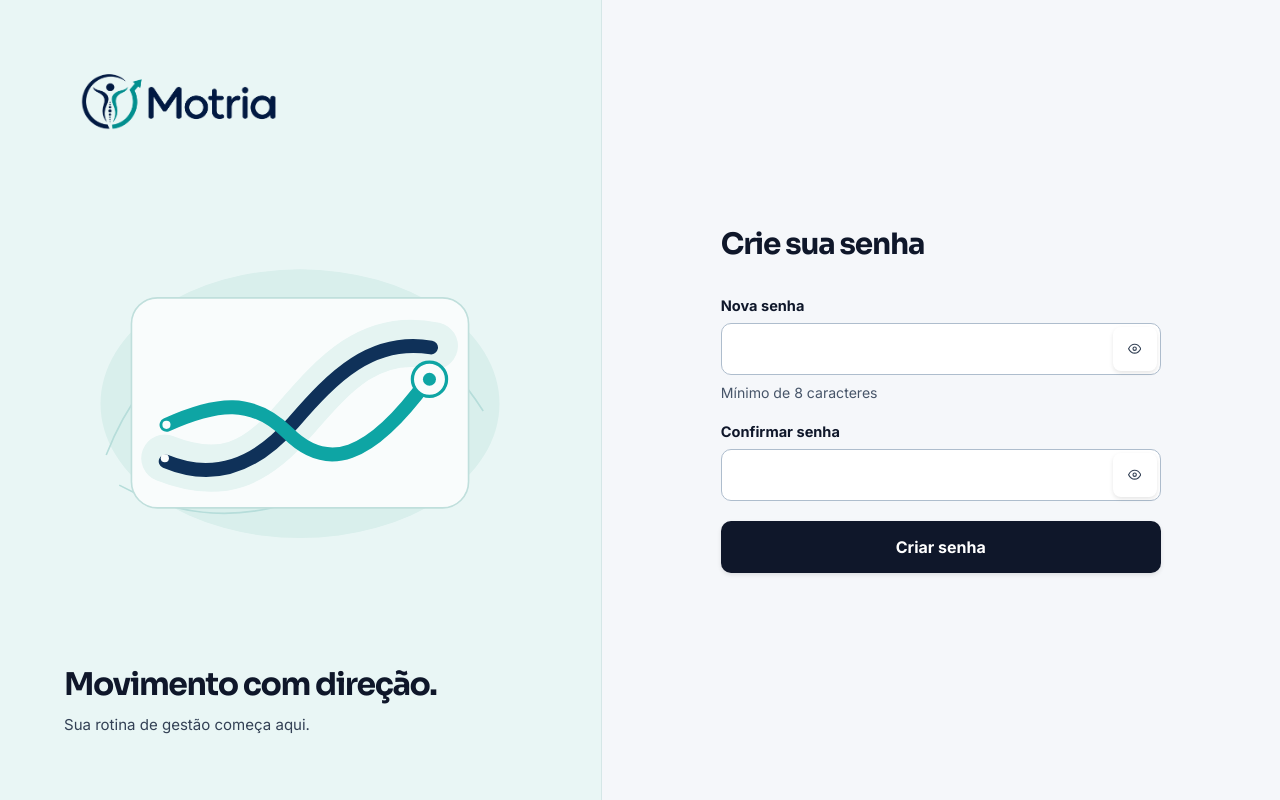
Test: consome o token do fragmento e o remove imediatamente da URL
Expected: the heading "Crie sua senha" is shown, [721, 225, 924, 263]
Expected: the text "Mínimo de 8 caracteres" is shown, [721, 384, 878, 401]
Type "senha de primeiro acesso" into the password field labelled "Nova senha" at (941, 349), box [721, 323, 1161, 375]
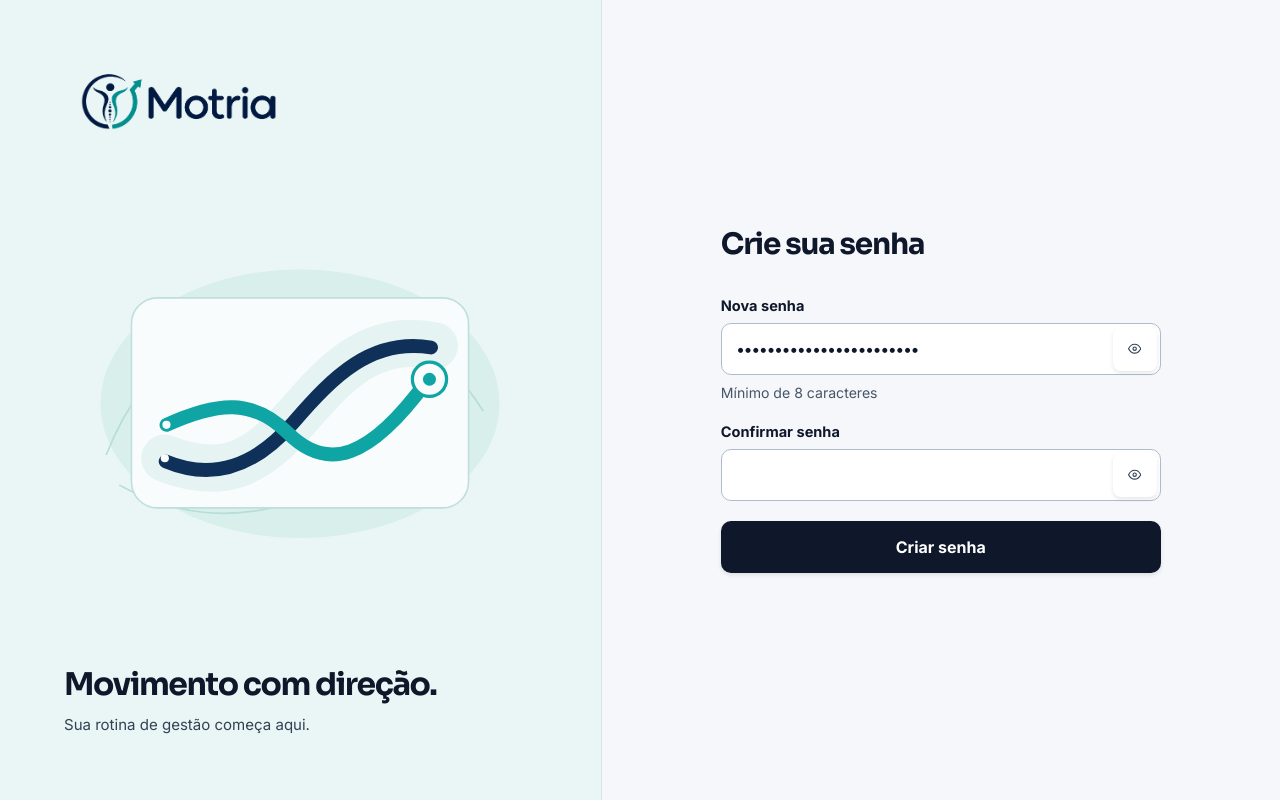
Type "senha de primeiro acesso" into the password field labelled "Confirmar senha" at (941, 475), box [721, 449, 1161, 501]
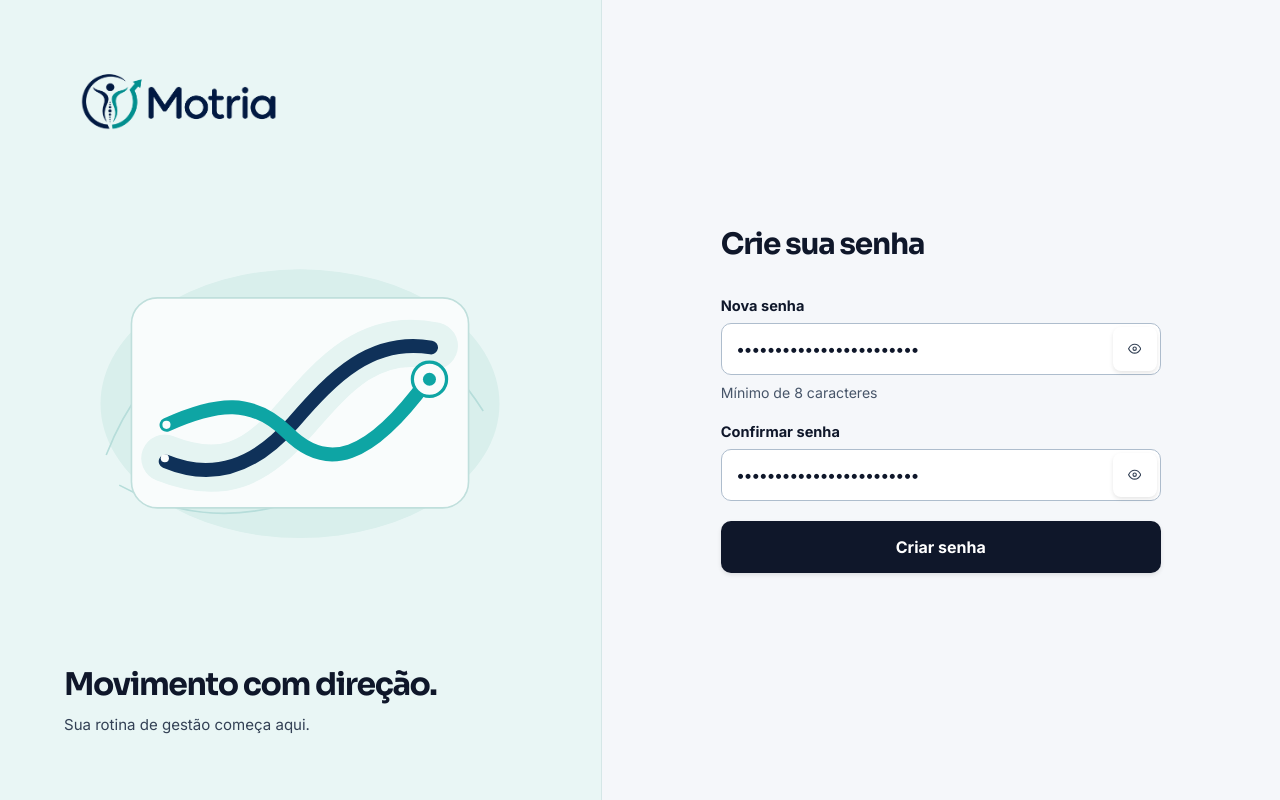
Click the button "Criar senha" at (941, 547), box [721, 521, 1161, 573]
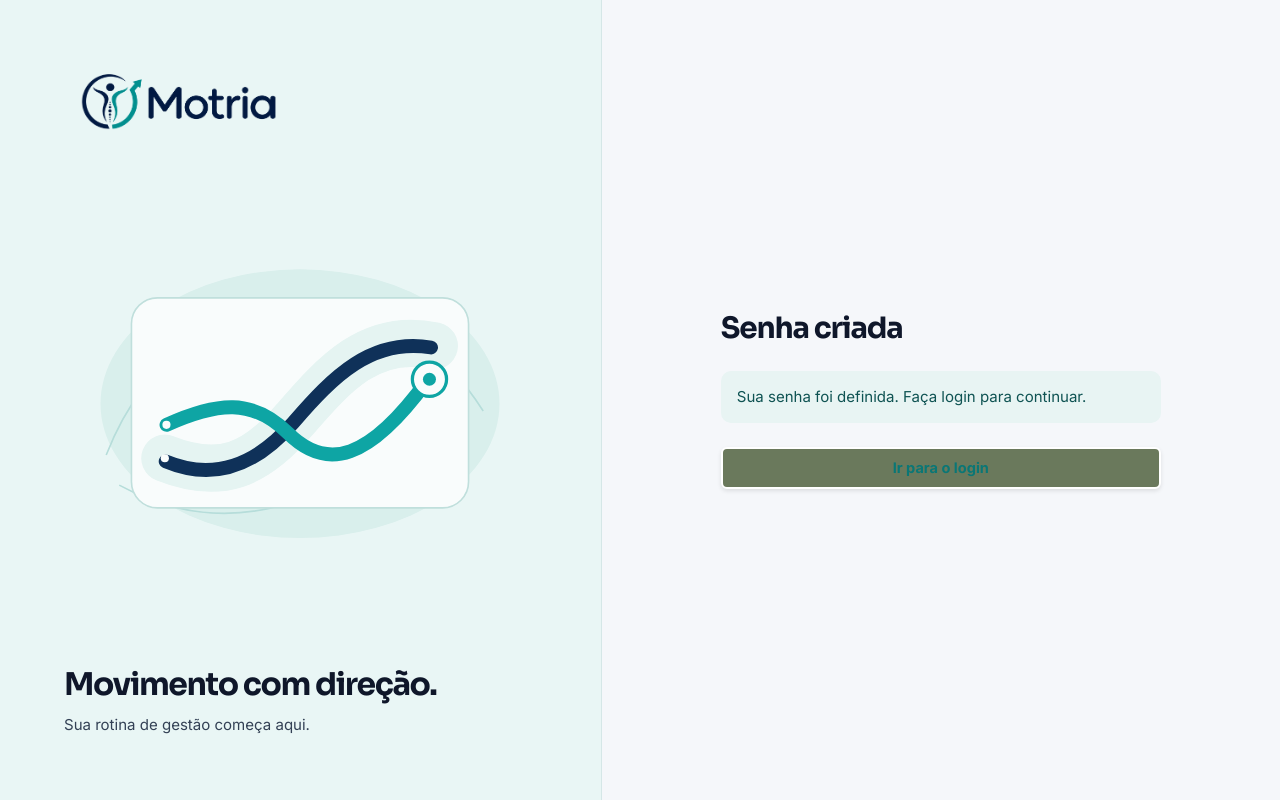
Expected: the heading "Senha criada" is shown, [721, 309, 903, 347]
Expected: the message shows "Sua senha foi definida.", [737, 387, 1086, 406]
